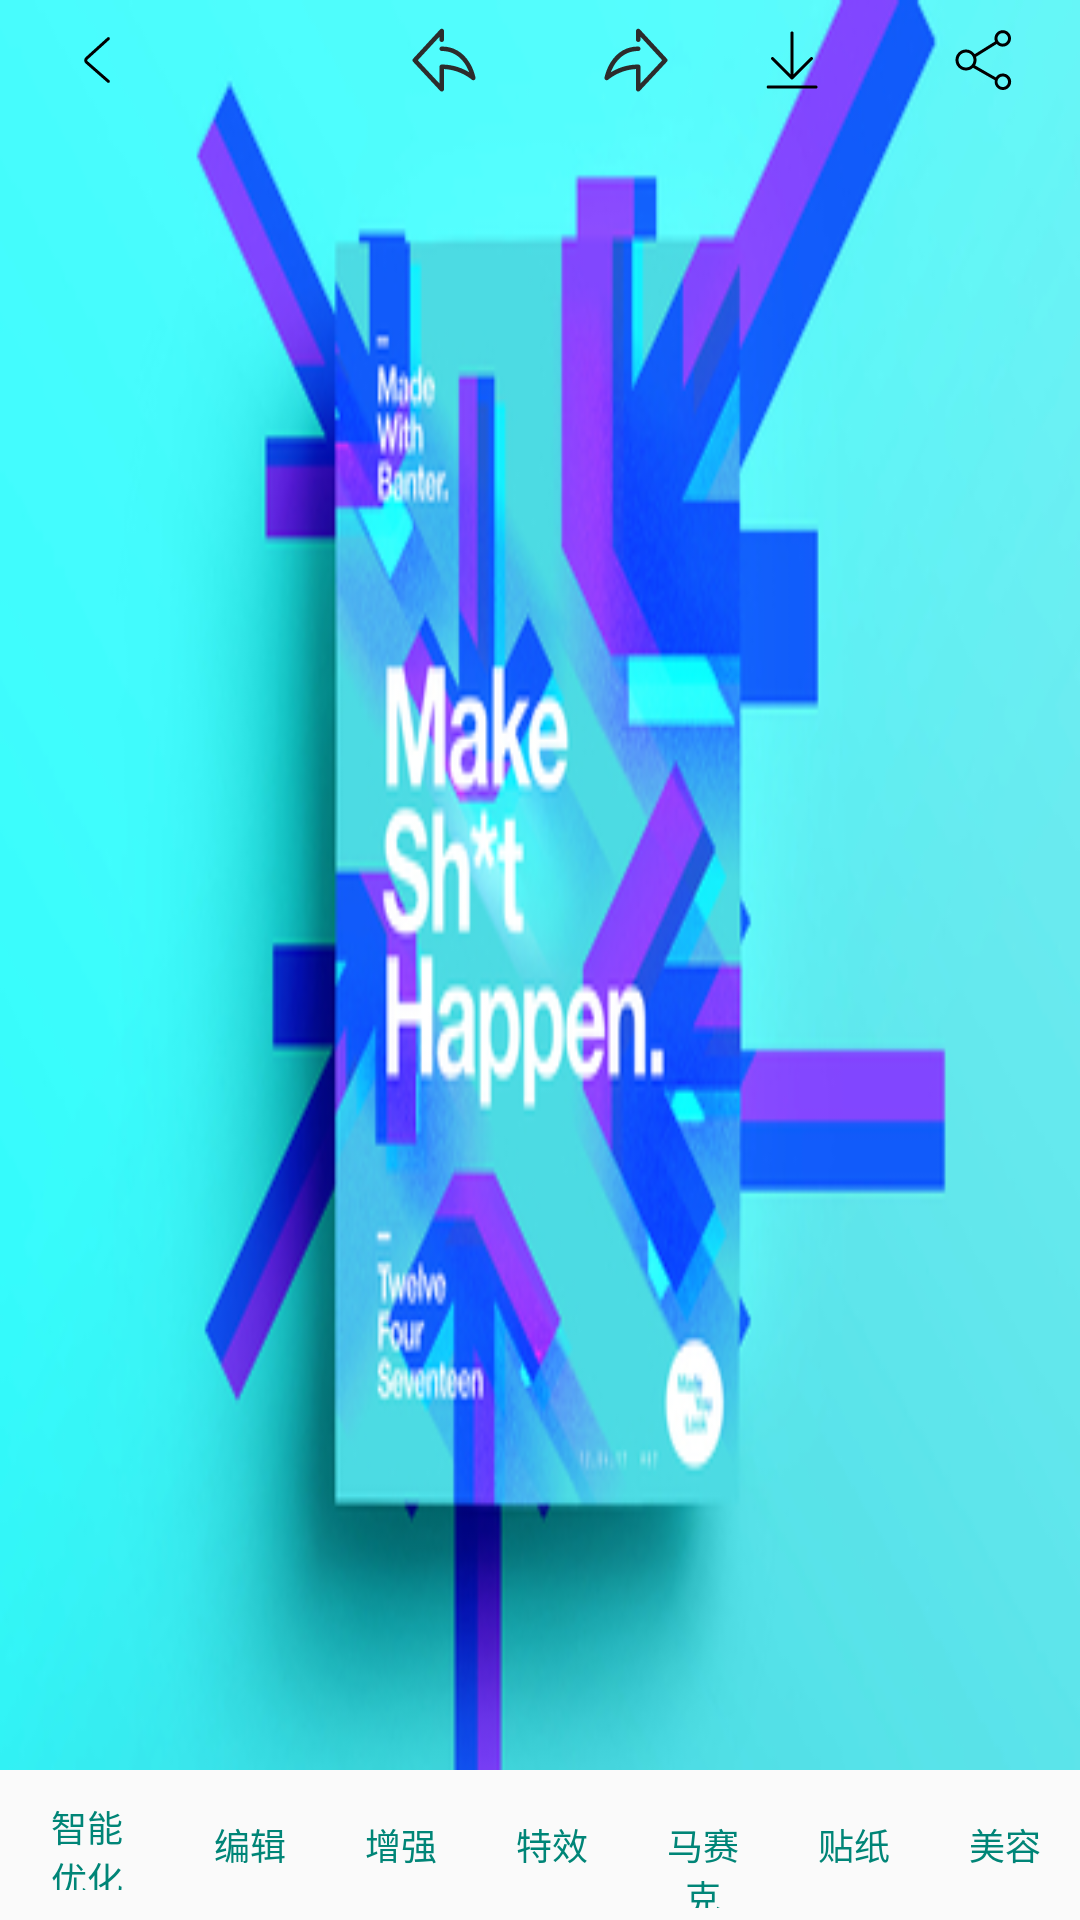

Screen size 1080×1920. Icon name, then its center in pixels as (x=x, y=y):
back: (x=97, y=60)
forward: (x=636, y=60)
